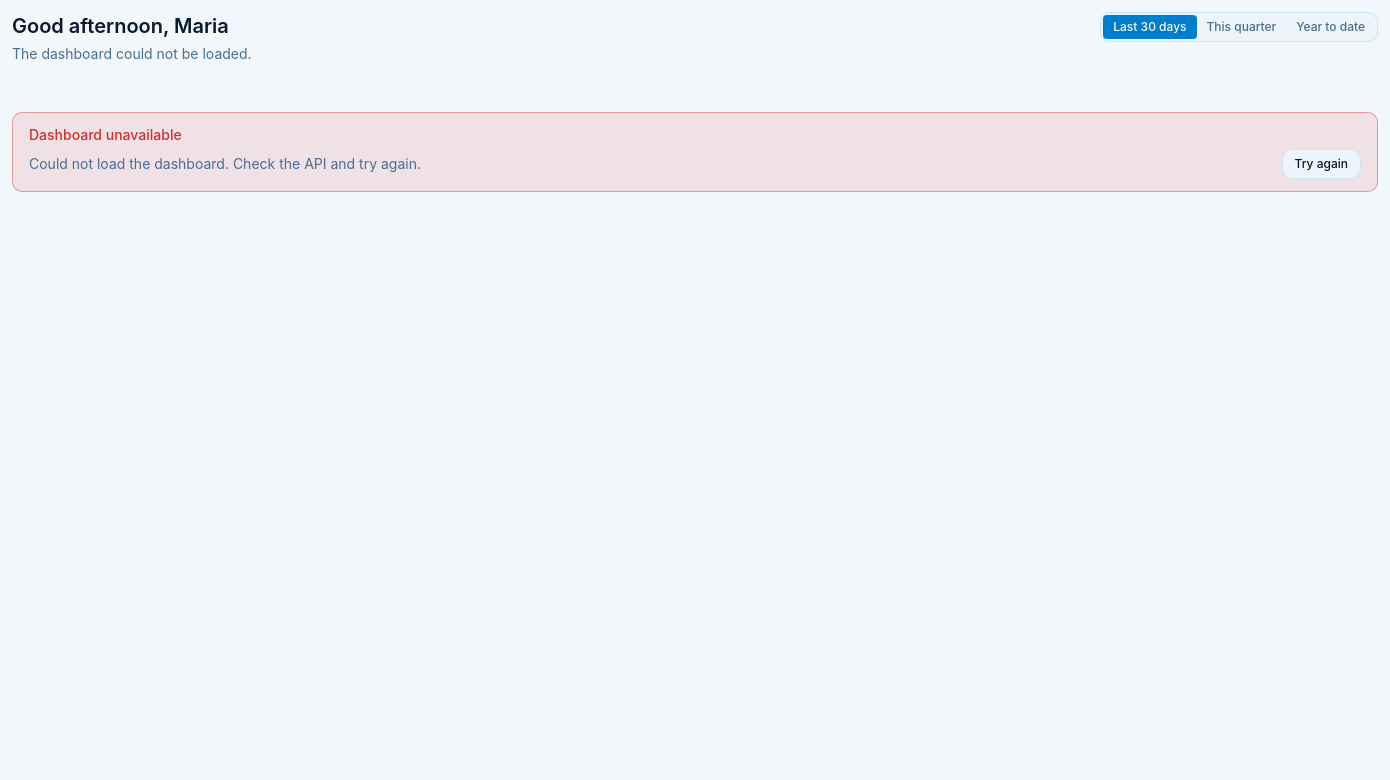
dashboard home › shows an error and retries the read
Expected: the text "Dashboard unavailable" is shown, x1=29 y1=126 x2=182 y2=143
Expected: the text "Could not load the dashboard. Check the API and try again." is shown, x1=29 y1=154 x2=421 y2=174
Click the button "Try again" at x=1321, y=164, box x1=1282 y1=149 x2=1361 y2=179
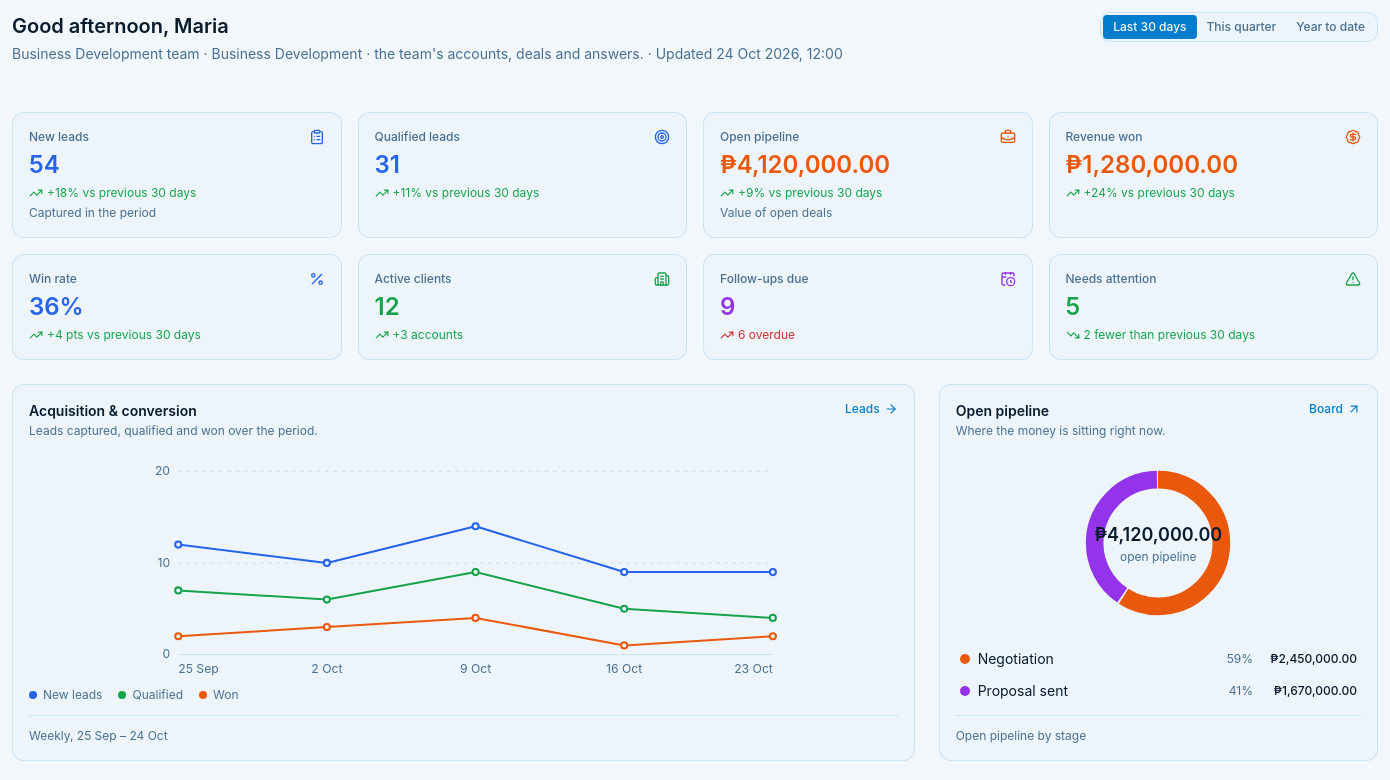
Now the text "54" is shown, box x1=29 y1=150 x2=60 y2=179
